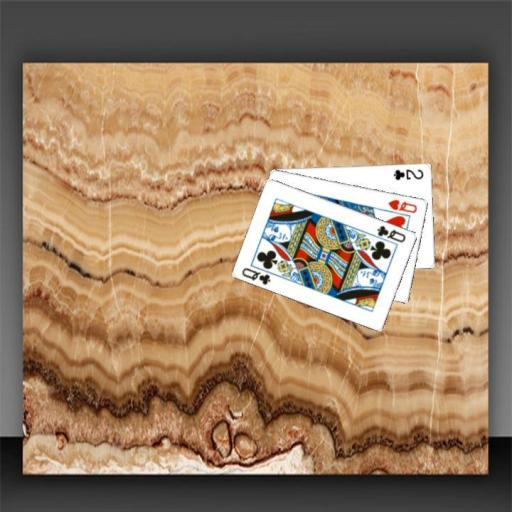2C: (391, 166, 426, 181)
QC: (374, 222, 408, 244), (239, 264, 272, 286)
QH: (385, 196, 419, 214)
